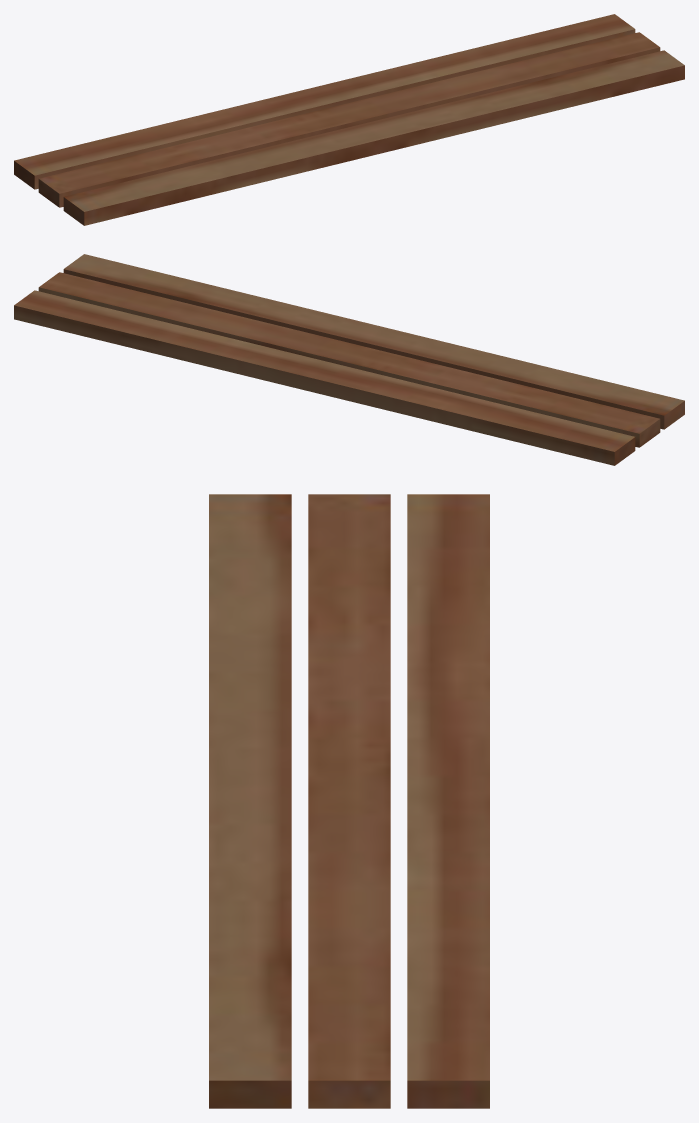
Rendered from BenchUnderWood.fbx.
3 views of the same model, one above another, from view 1: azimuth 30°, elevation 25°; view 2: azimuth 150°, elevation 25°; view 3: azimuth 270°, elevation 25° (orthographic). The views are drawn at different scales.
Visible parts, largest first — view 1: bench 27; view 2: bench 27; view 3: bench 27.
Boxes of the visible parts, box(x1,y1,x2,y2) form: bench 27: box(14, 14, 684, 225); bench 27: box(14, 254, 684, 465); bench 27: box(209, 494, 489, 1108).
Size of the model in its own units: 9 by 0.2 by 1.82.
